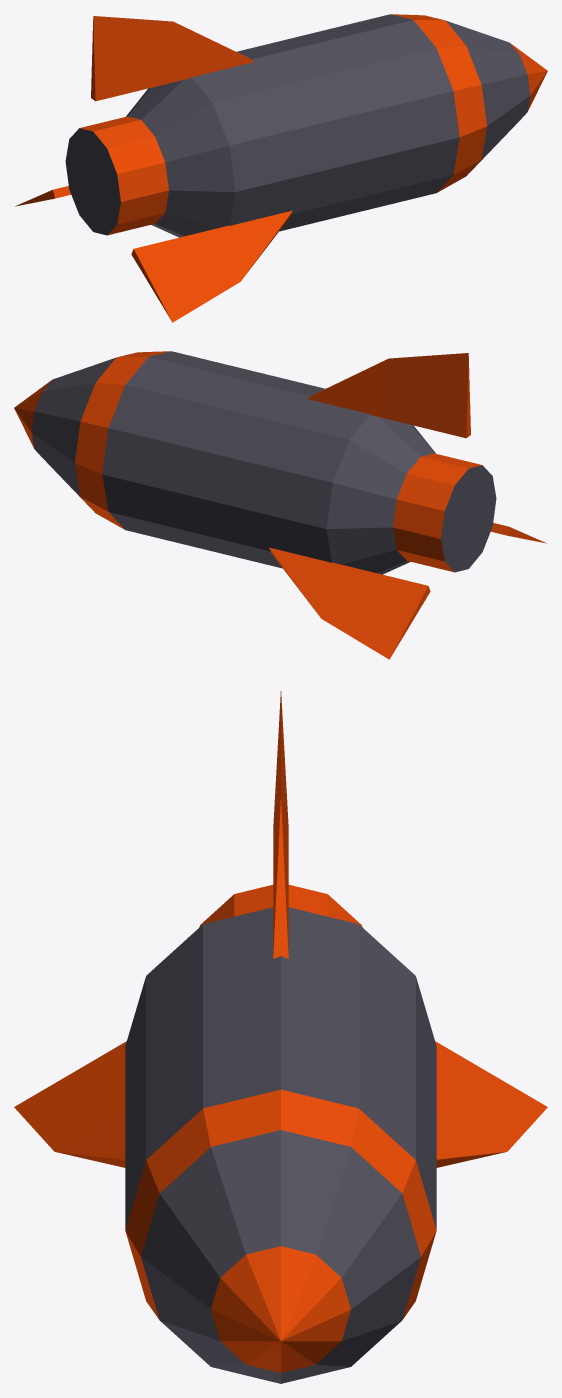
The model's file is rocket.fbx.
The picture shows the model from 3 angles, top to bottom: view 1: azimuth 30°, elevation 25°; view 2: azimuth 150°, elevation 25°; view 3: azimuth 270°, elevation 25°; orthographic projection. The views are drawn at different scales.
Visible parts, largest first — view 1: rocket; view 2: rocket; view 3: rocket.
Boxes of the visible parts, left/top/right/bottom form: rocket: left=15, top=14, right=547, bottom=322; rocket: left=14, top=351, right=546, bottom=659; rocket: left=14, top=691, right=547, bottom=1383.
Size of the model in its own units: 142 by 74.5 by 85.74.
